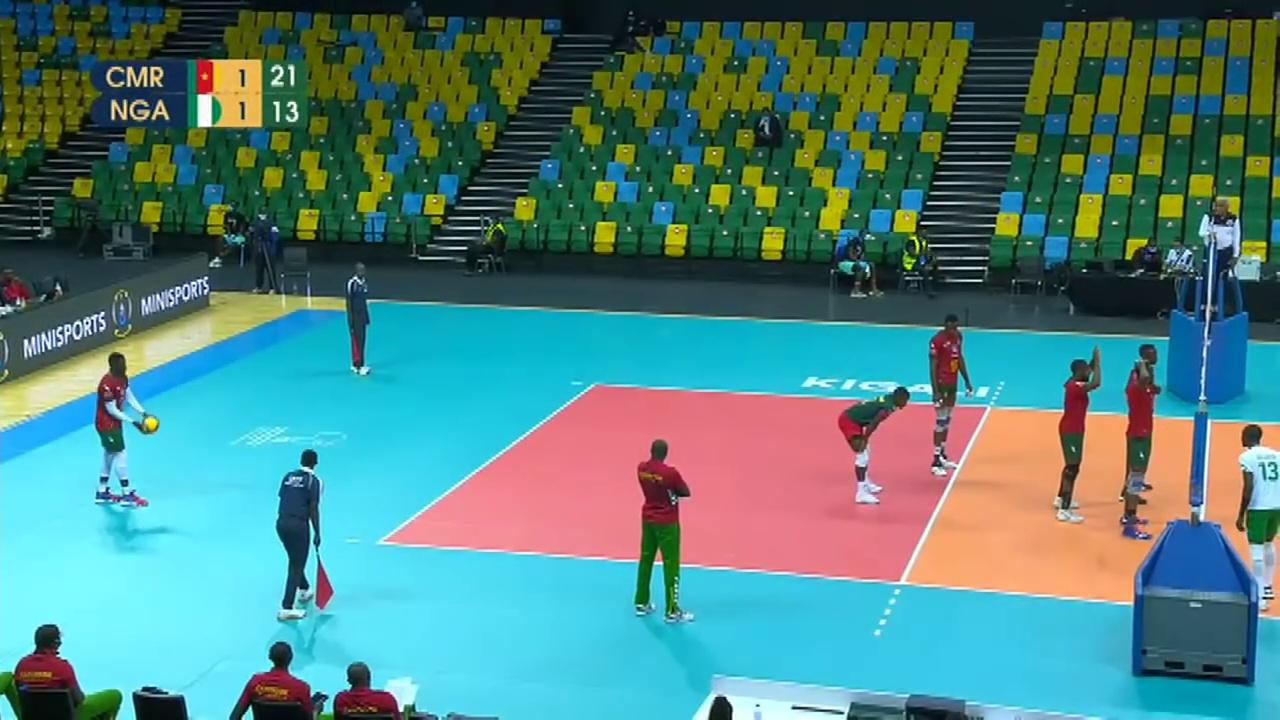player: (92, 356, 155, 502), (1234, 424, 1280, 616), (839, 385, 907, 505), (927, 313, 975, 478), (1053, 349, 1097, 521), (1117, 359, 1156, 541), (1119, 340, 1162, 501)
refree: (276, 451, 330, 615), (1190, 196, 1242, 317), (342, 262, 371, 374)
